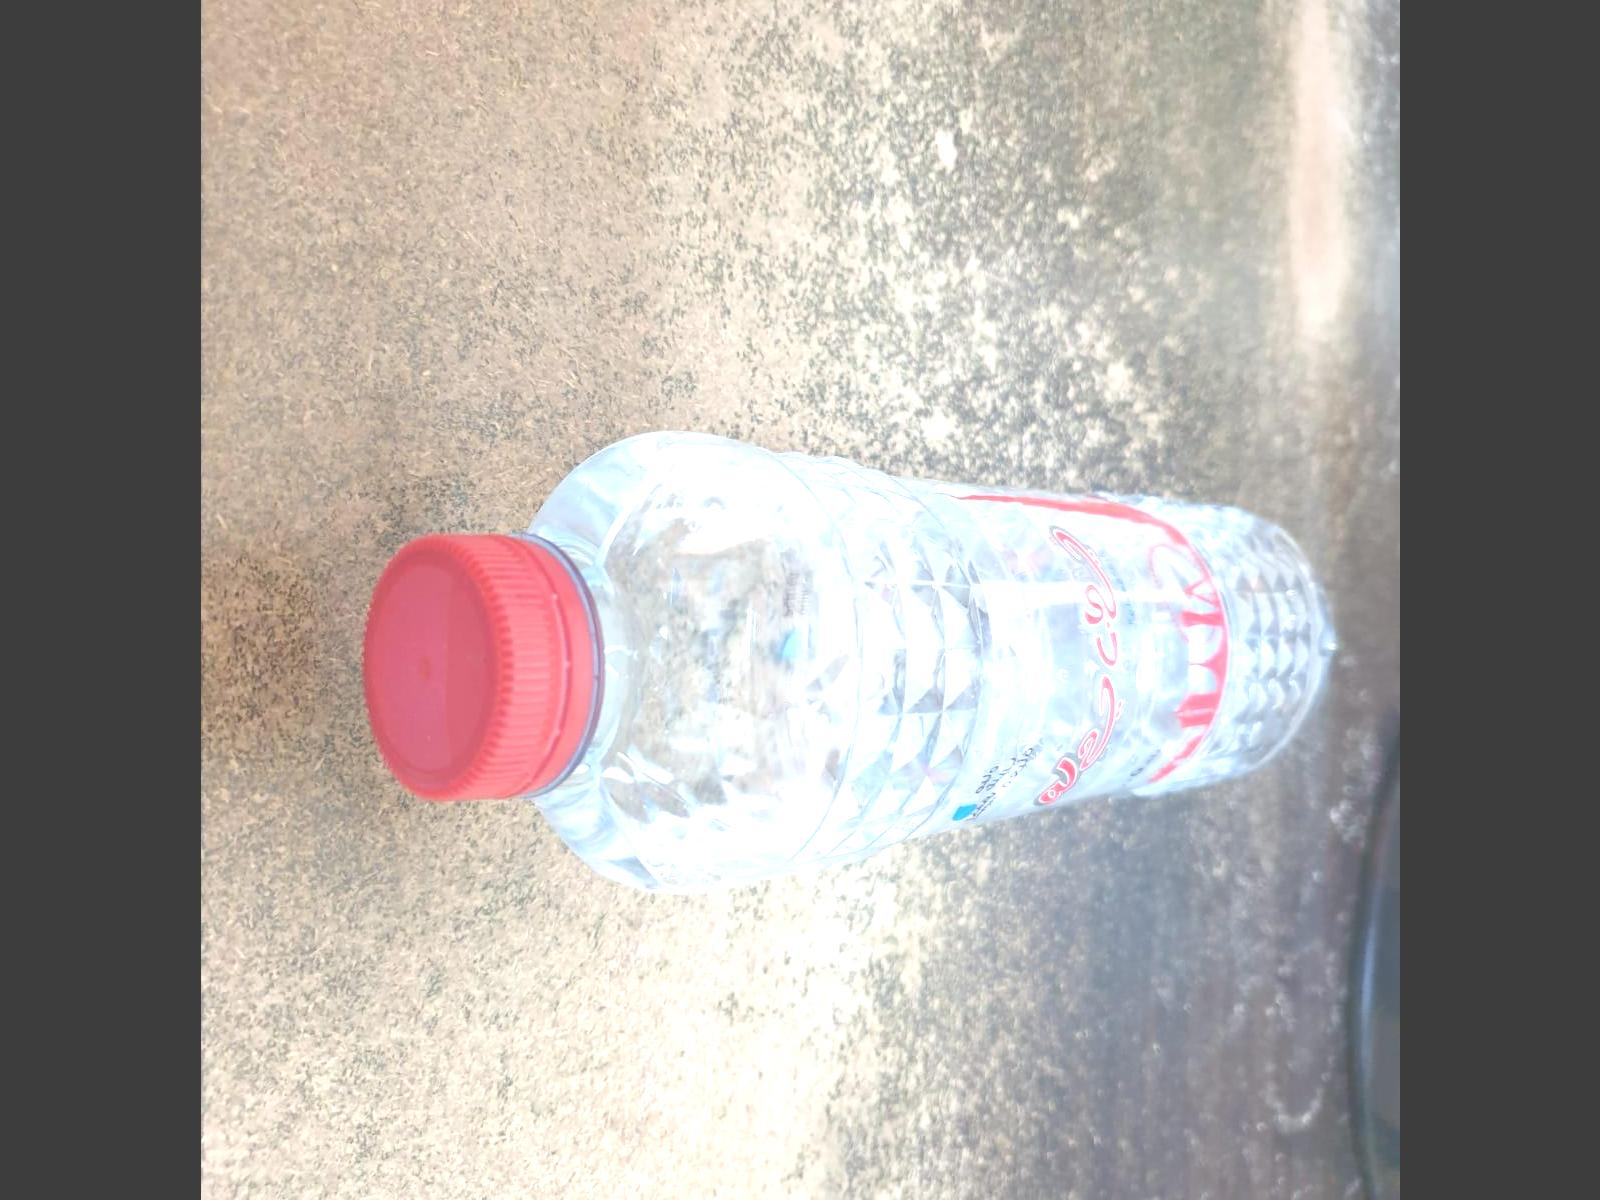bottle: (348, 429, 1342, 899)
